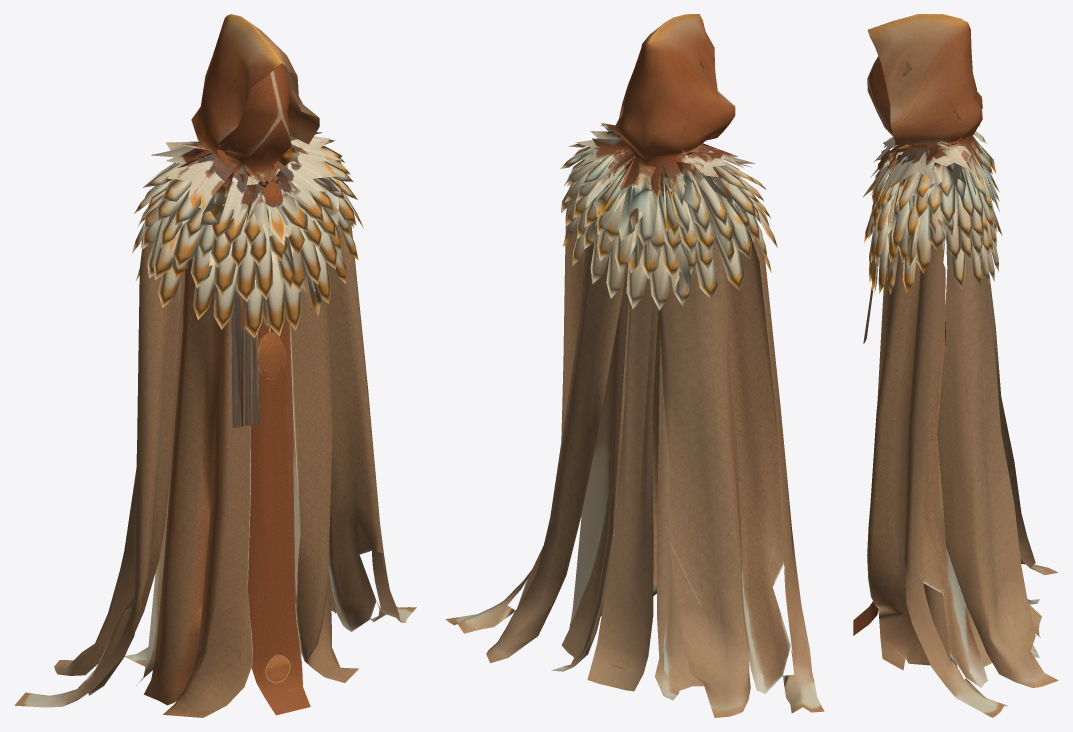
Rendered from feather-cloak_refine.glb.
3 views of the same model, side by side, from view 1: azimuth 30°, elevation 25°; view 2: azimuth 150°, elevation 25°; view 3: azimuth 270°, elevation 25° (orthographic). The views are drawn at different scales.
Size of the model in its own units: 0.6035 by 0.9512 by 0.2876.
Materials: 1 (1 with a texture image).
